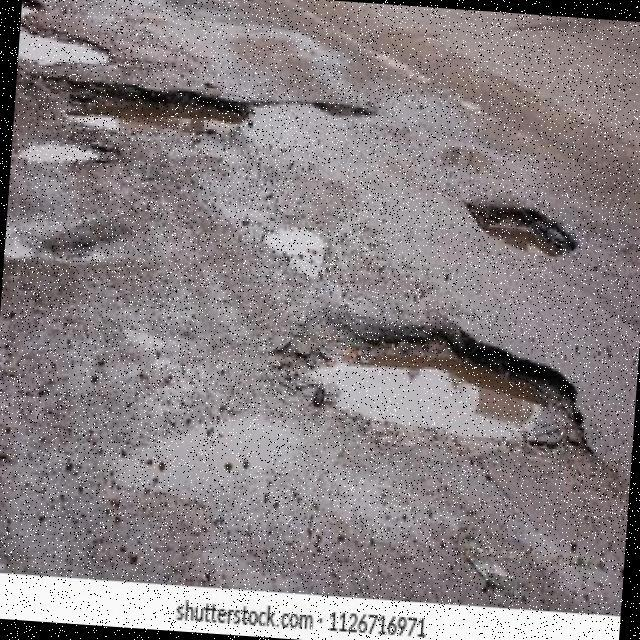Pothole: (305, 325, 577, 450), (37, 76, 373, 125), (3, 183, 139, 272), (464, 203, 577, 258), (17, 24, 109, 65), (262, 226, 324, 277), (18, 145, 95, 163)
